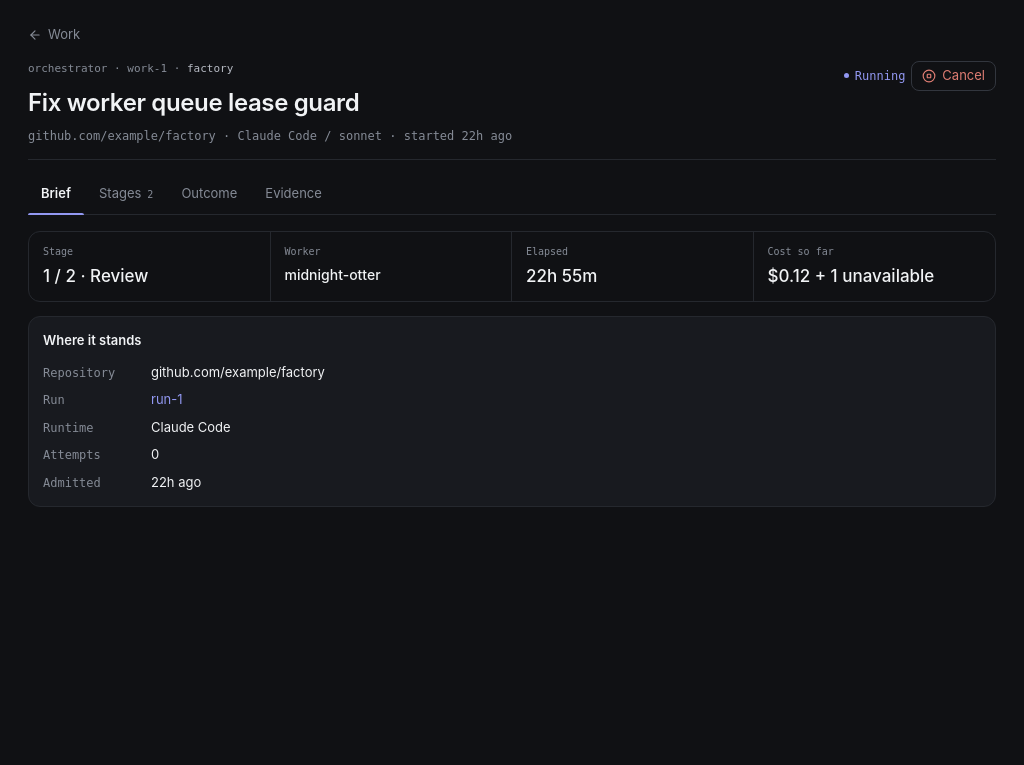
Scenario: Work detail › separates cost that cannot exist from cost that was not reported
Click the tab "Outcome": (209,194) [168, 174, 250, 214]
(page scrolled)
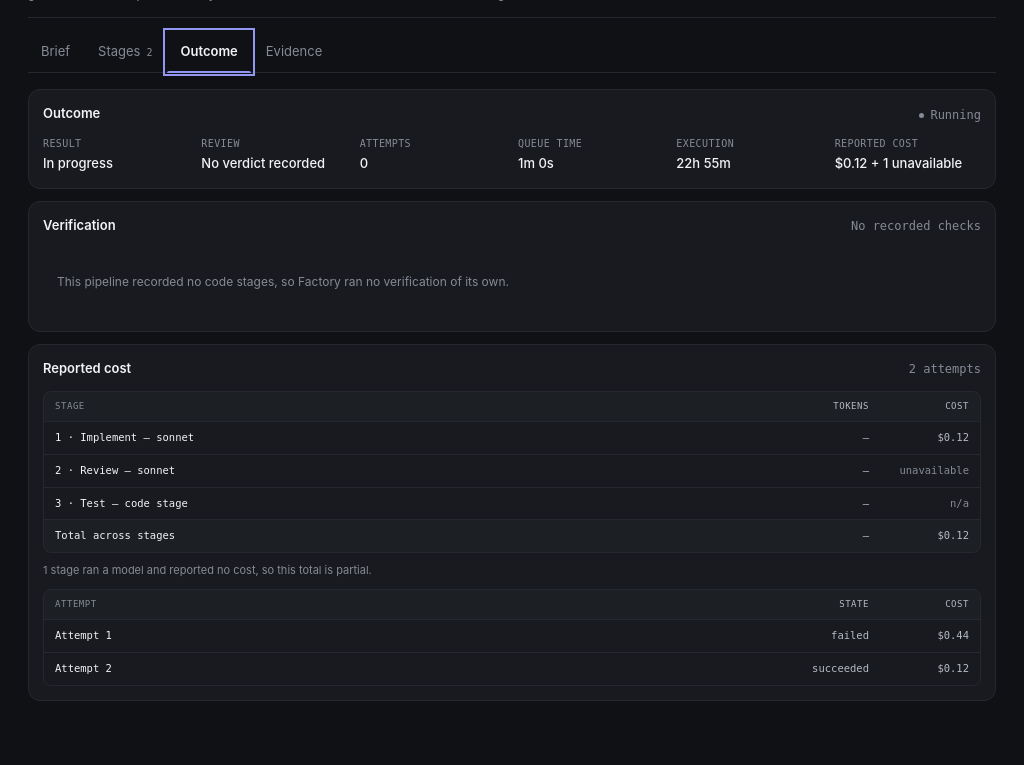
Now the text "n/a" is shown, box [950, 496, 969, 508]
Now the text "unavailable" is shown, box [900, 464, 969, 476]
Now the text "reported no cost, so this total is partial" is shown, box [79, 563, 372, 577]
